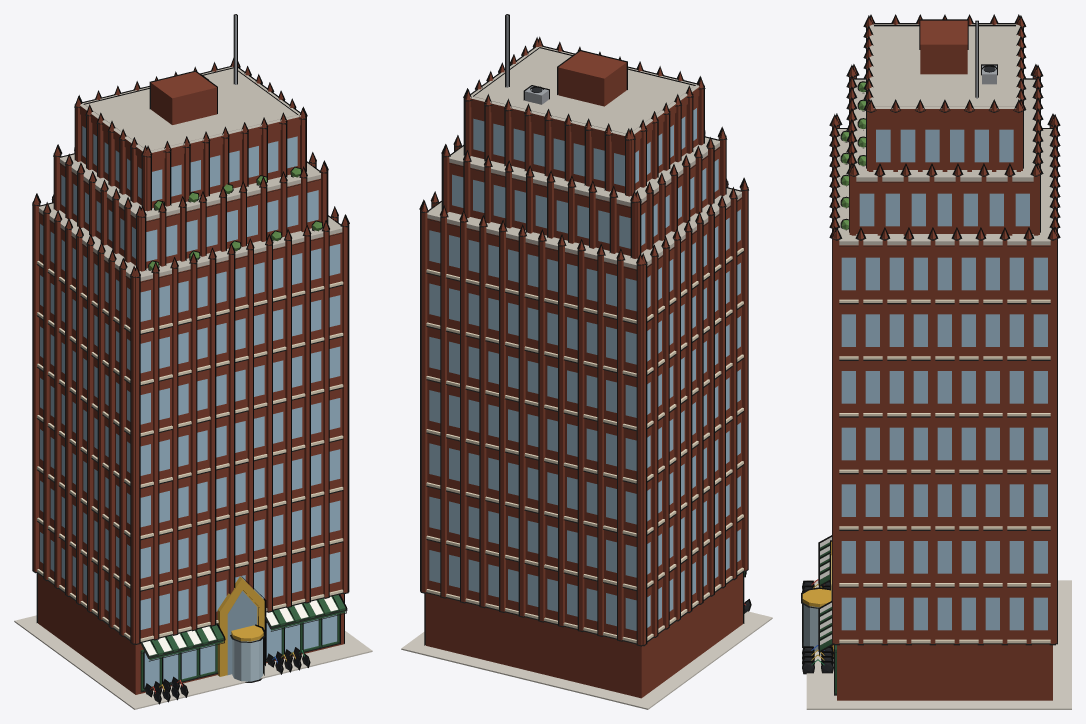
Rendered from Buro_klinker_1.fbx.
3 views of the same model, side by side, from view 1: azimuth 30°, elevation 25°; view 2: azimuth 150°, elevation 25°; view 3: azimuth 270°, elevation 25° (orthographic). The views are drawn at different scales.
Visible parts, largest first — view 1: Buro_klinker_1; view 2: Buro_klinker_1; view 3: Buro_klinker_1.
Part boxes in pixels (x1,y1,x2,y2): Buro_klinker_1: [14, 14, 372, 709]; Buro_klinker_1: [401, 14, 772, 709]; Buro_klinker_1: [801, 14, 1071, 709].
Bounding box in the file's own units: 16 × 38.23 × 14.29.
